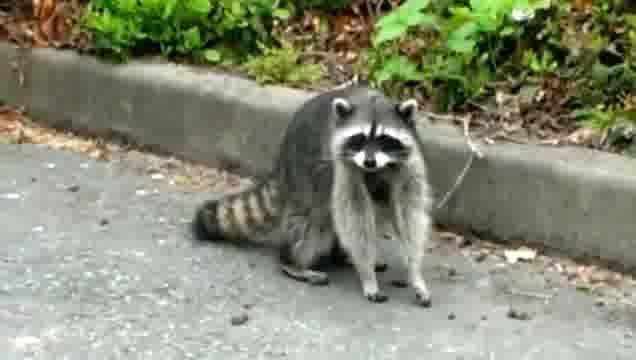raccoon: (194, 86, 438, 311)
